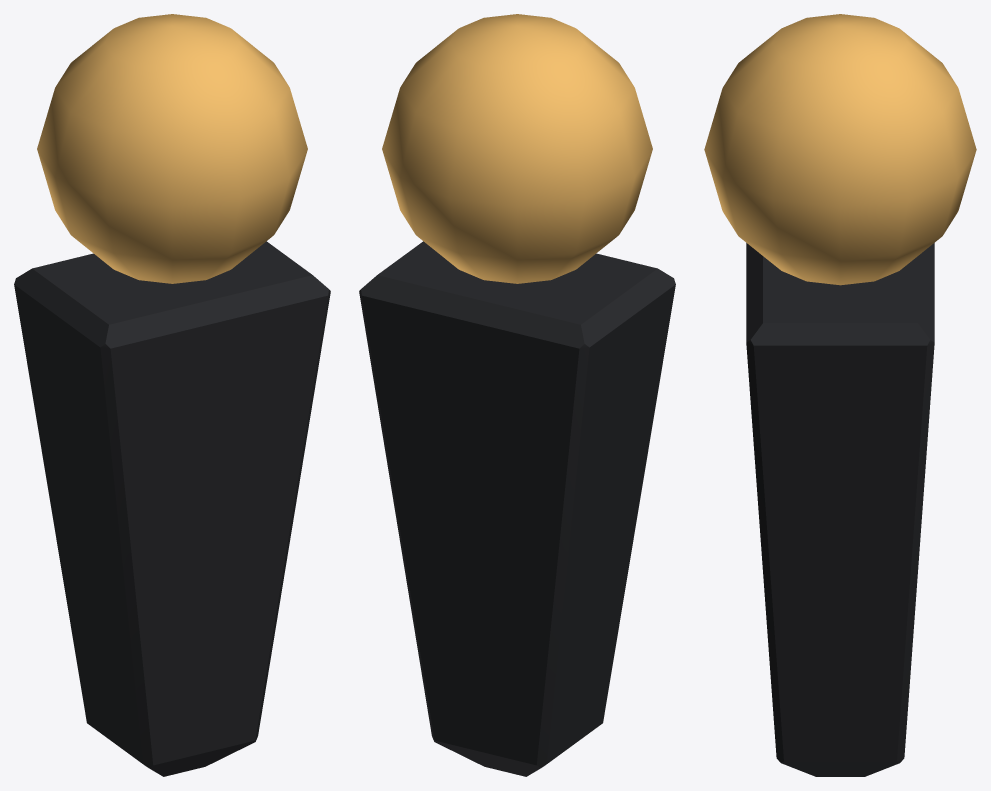
Rendered from Human.fbx.
3 views of the same model, side by side, from view 1: azimuth 30°, elevation 25°; view 2: azimuth 150°, elevation 25°; view 3: azimuth 270°, elevation 25° (orthographic).
Parts seen in each view (by area): view 1: Human; view 2: Human; view 3: Human.
Boxes of the visible parts, x1,y1,x2,y2 form: Human: [14, 14, 330, 776]; Human: [359, 14, 675, 776]; Human: [704, 14, 976, 776].
Size of the model in its own units: 20 by 20 by 60.
